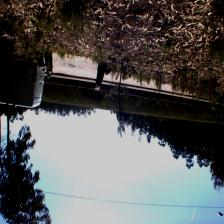trunktrack_idkeyframe: (6, 64, 10, 101)
